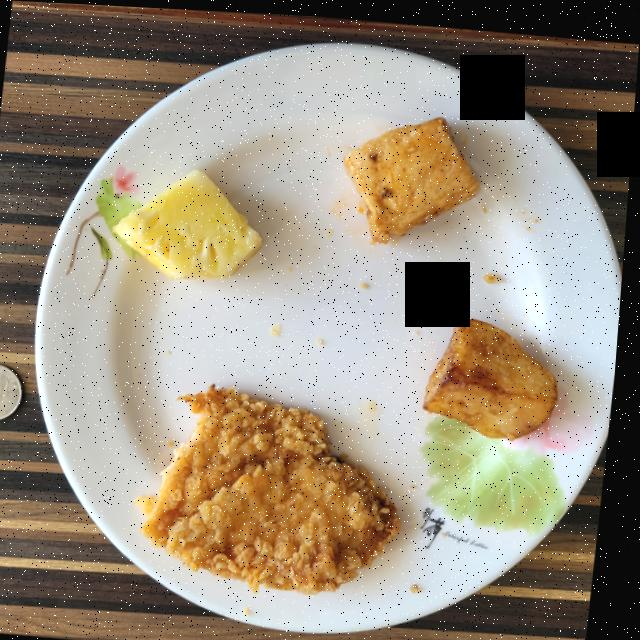coin: (0, 364, 27, 420)
creamy tofu: (345, 112, 481, 239)
fried chicken cutlet: (141, 384, 407, 591)
fried potato: (428, 312, 563, 434)
pineapple: (114, 167, 264, 277)
